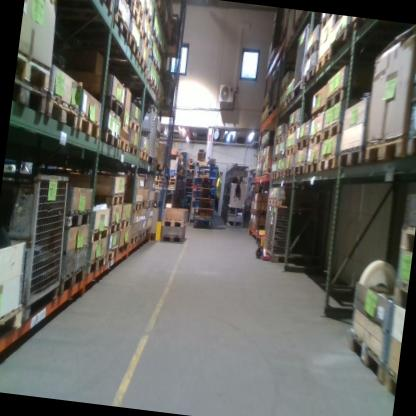pallet: (342, 327, 387, 379), (361, 128, 411, 173), (41, 88, 80, 136), (14, 47, 53, 89), (12, 85, 51, 120), (88, 88, 128, 119), (322, 84, 363, 114), (0, 304, 24, 352), (336, 138, 366, 176), (57, 260, 87, 298), (314, 42, 347, 76), (91, 185, 125, 211), (64, 201, 93, 231), (109, 7, 131, 46), (76, 112, 102, 144), (320, 116, 344, 147), (378, 364, 397, 400), (400, 128, 416, 167), (97, 125, 120, 151), (390, 275, 407, 310), (301, 57, 319, 90), (127, 5, 146, 36), (79, 0, 115, 16), (125, 31, 142, 64), (89, 247, 107, 278), (265, 197, 304, 211), (398, 222, 415, 254), (318, 151, 340, 175), (159, 229, 184, 247), (88, 225, 109, 246), (309, 98, 328, 121), (304, 35, 322, 59), (140, 2, 156, 27), (129, 0, 147, 22), (115, 132, 131, 156), (135, 50, 148, 79), (307, 126, 323, 149), (144, 67, 158, 93), (305, 157, 321, 179), (148, 23, 161, 50), (106, 244, 120, 269), (160, 215, 189, 227), (293, 131, 309, 152), (145, 45, 159, 68), (139, 25, 152, 49), (108, 215, 121, 238), (293, 159, 307, 180), (125, 114, 142, 131), (286, 122, 304, 138), (272, 131, 290, 146), (409, 63, 416, 101), (266, 101, 278, 123), (258, 98, 272, 115), (125, 141, 138, 158), (114, 0, 134, 11), (284, 143, 298, 158), (136, 147, 149, 163), (279, 79, 291, 96), (283, 91, 293, 111), (258, 110, 269, 128), (129, 230, 139, 249), (121, 215, 131, 234), (141, 197, 154, 210), (262, 153, 274, 167), (277, 98, 286, 116), (263, 137, 275, 150), (131, 198, 143, 211), (138, 227, 146, 244), (261, 166, 272, 178), (284, 165, 294, 178), (269, 169, 277, 183), (253, 170, 262, 181), (277, 168, 284, 181), (278, 149, 284, 164), (145, 224, 151, 238), (273, 151, 279, 164), (256, 154, 263, 165), (258, 141, 265, 150)
pallet_truck: (248, 178, 279, 262)
stillage: (0, 158, 77, 327), (264, 200, 320, 269), (290, 22, 316, 104), (131, 101, 161, 168), (262, 201, 272, 254)
